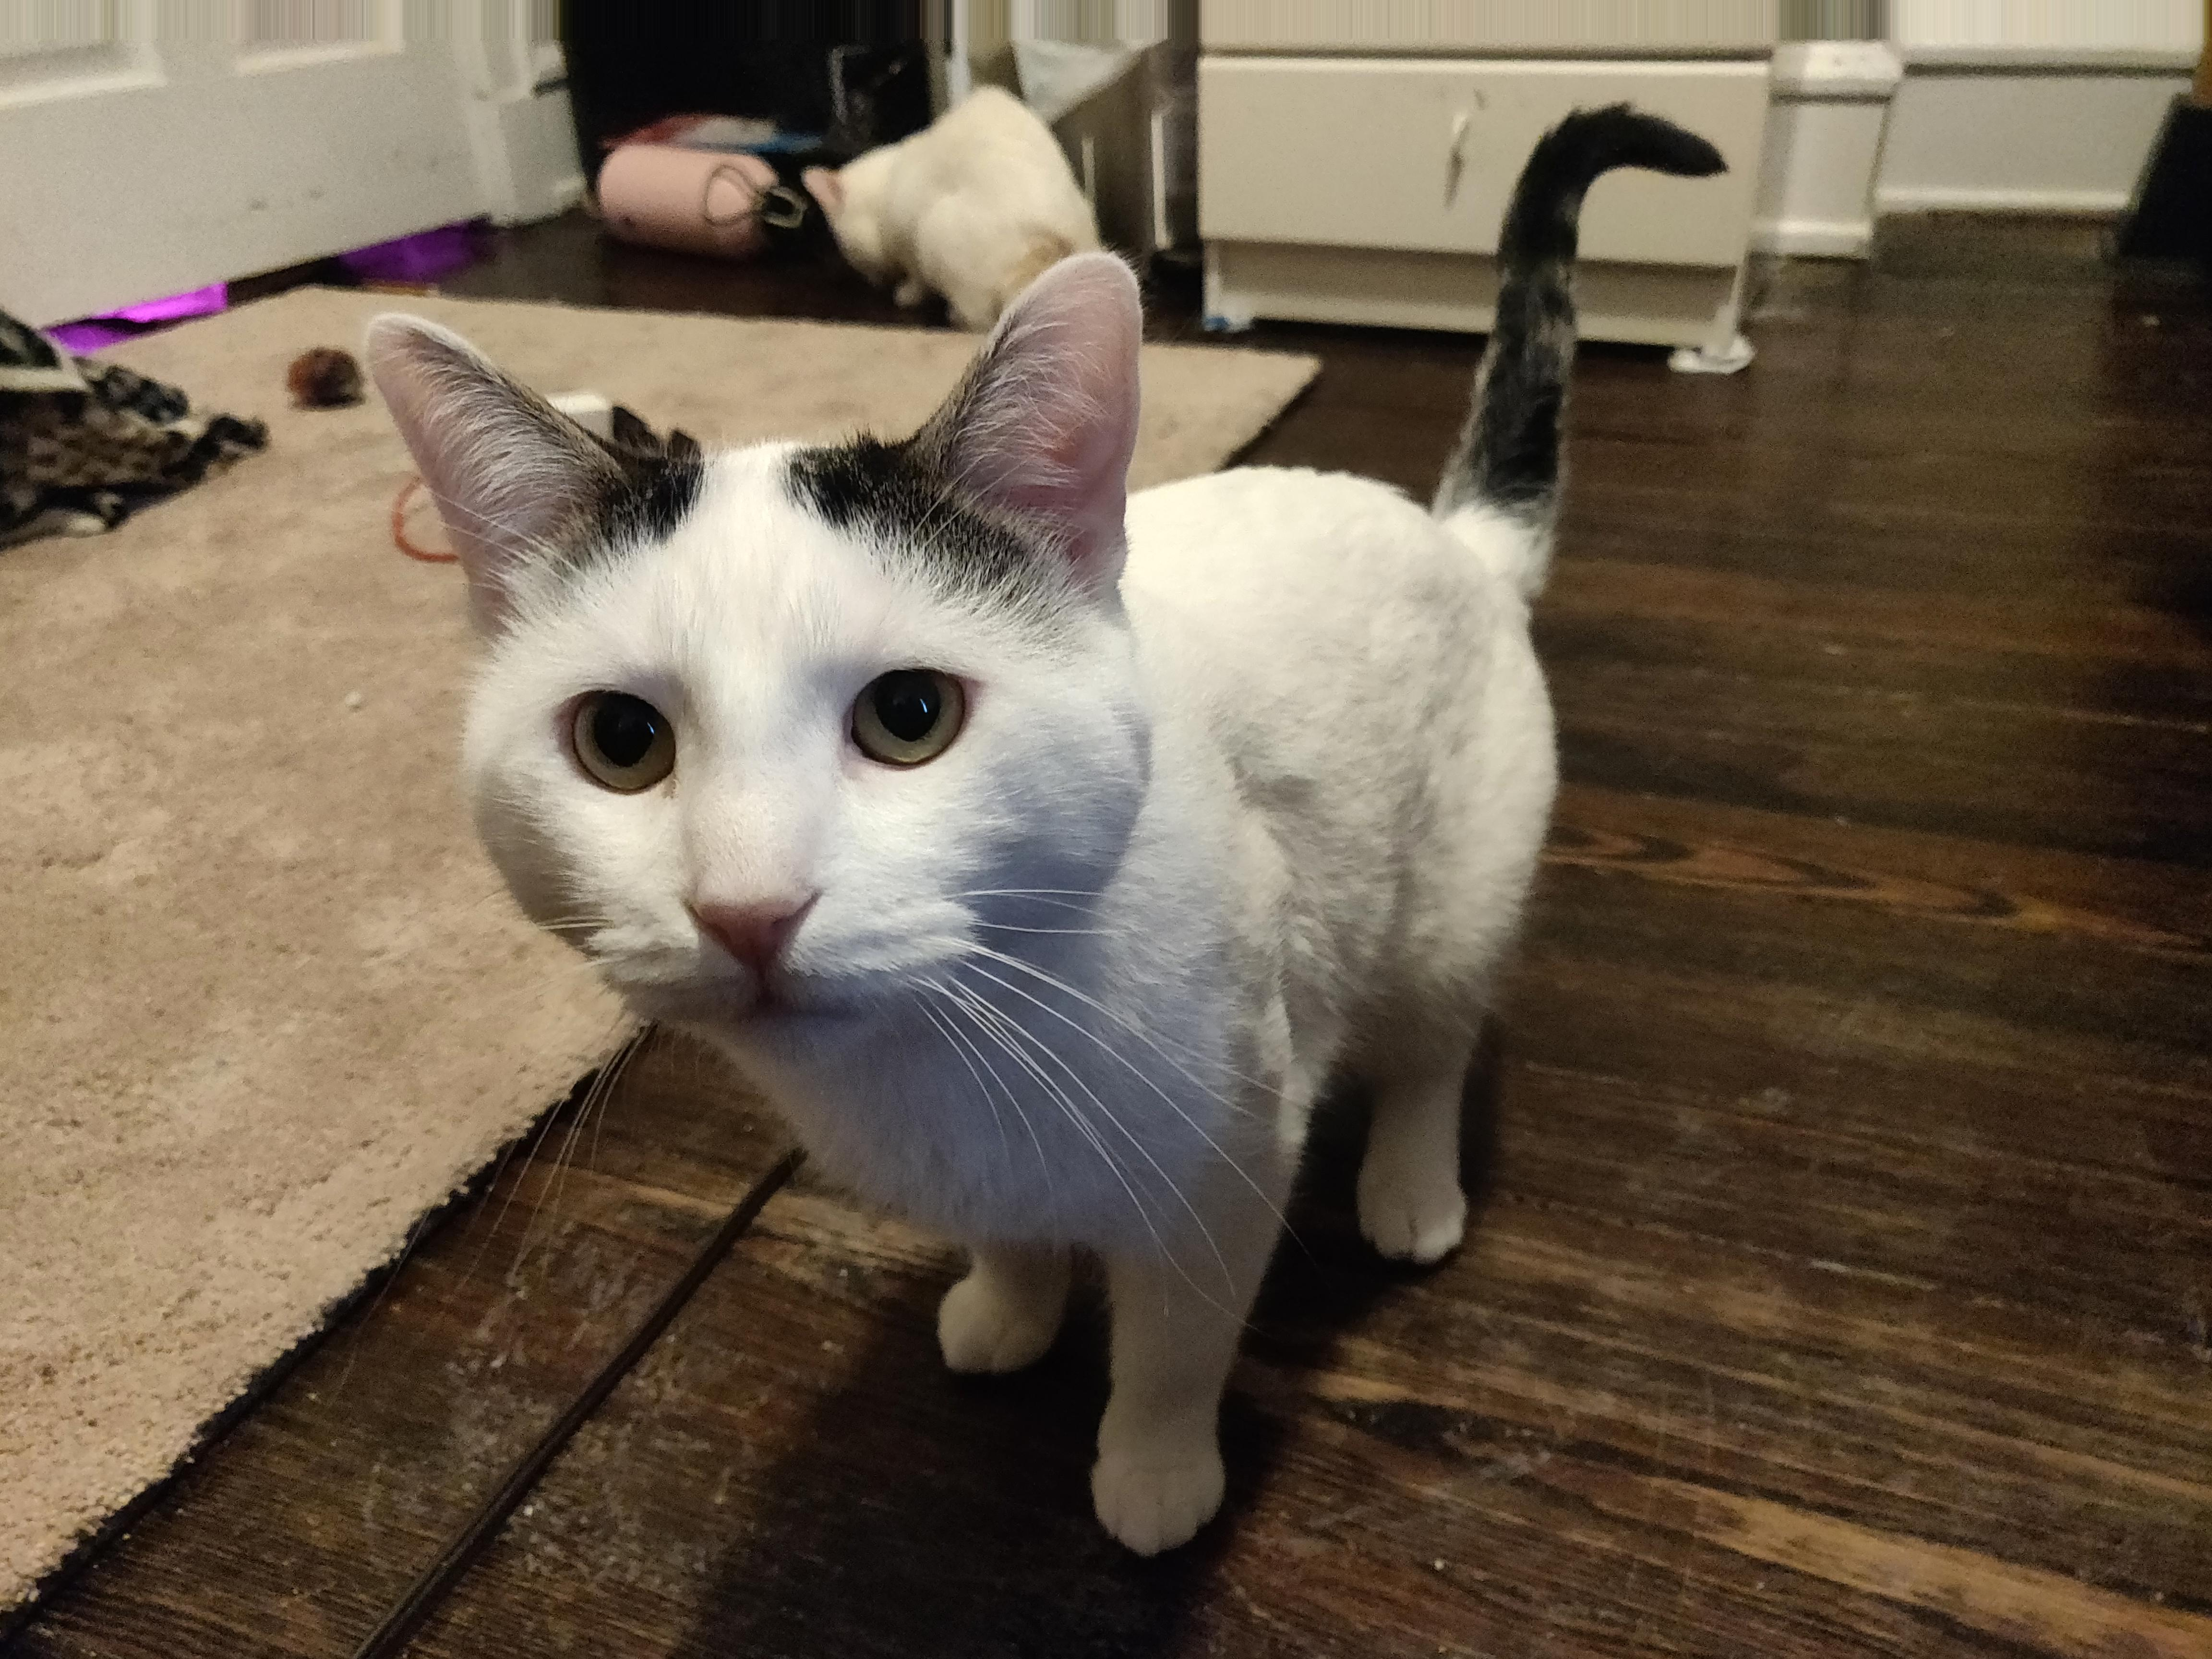cat: (357, 264, 1658, 1513)
